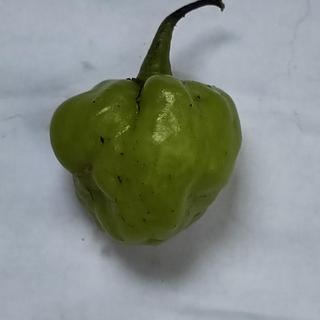Defect: (126, 77, 154, 115)
Fly-bites: (114, 170, 126, 190), (191, 91, 206, 105), (97, 132, 106, 150), (118, 147, 129, 160), (167, 204, 178, 216), (141, 215, 150, 229)
